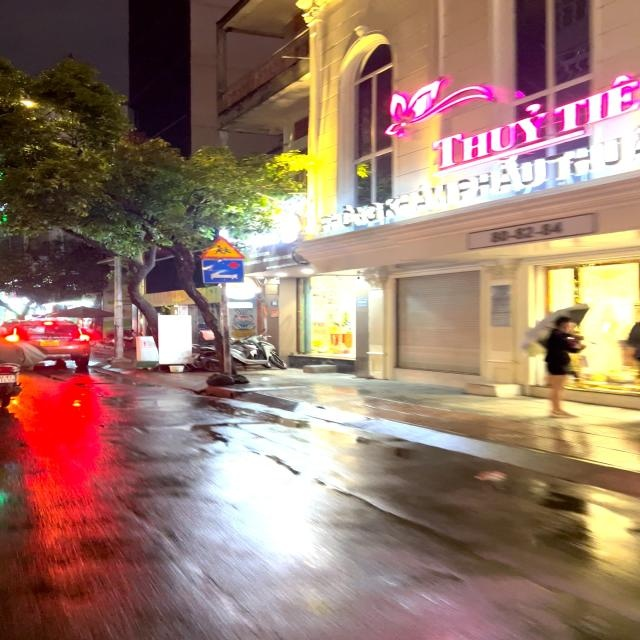bien_hieu_lenh: (199, 235, 247, 259), (202, 260, 246, 283)
